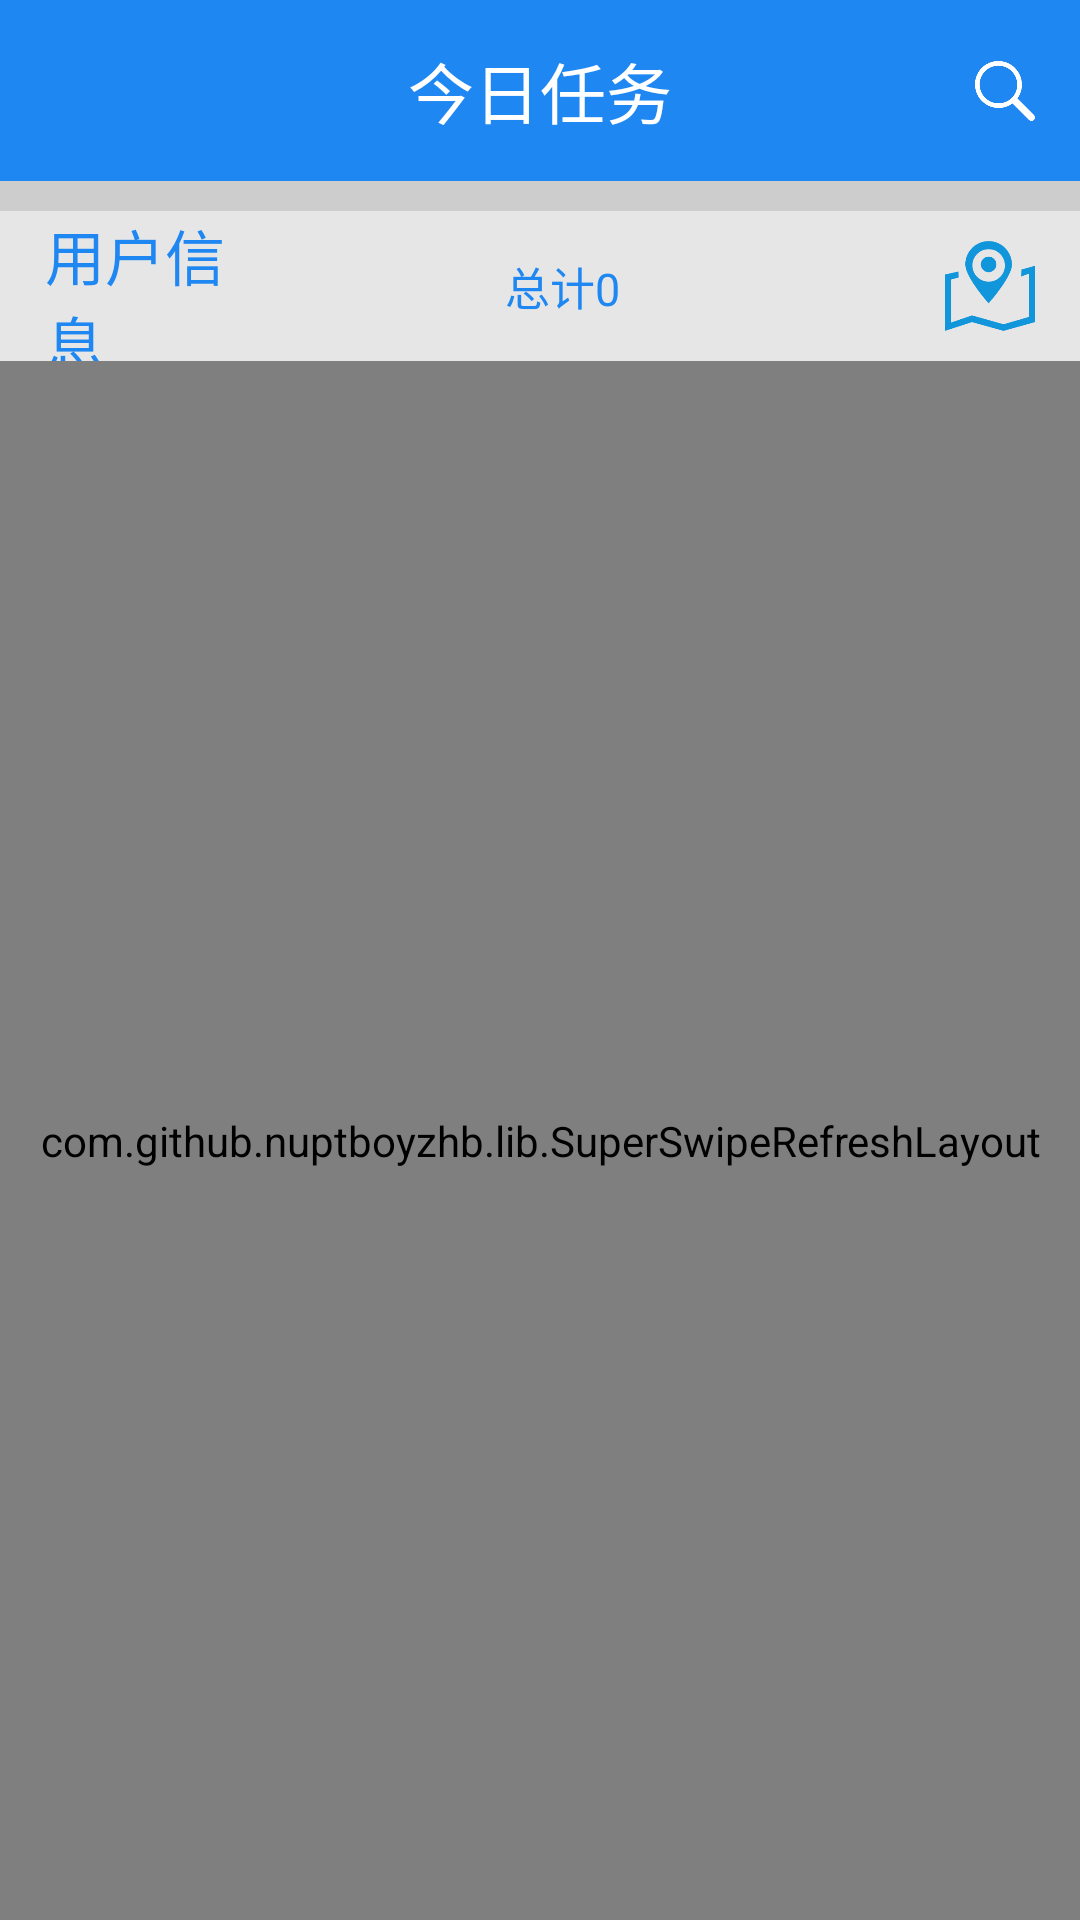

Where to tap for icons on this 1080*1920 app screen, as (x,y):
map: (990,286)
search: (1005,91)
